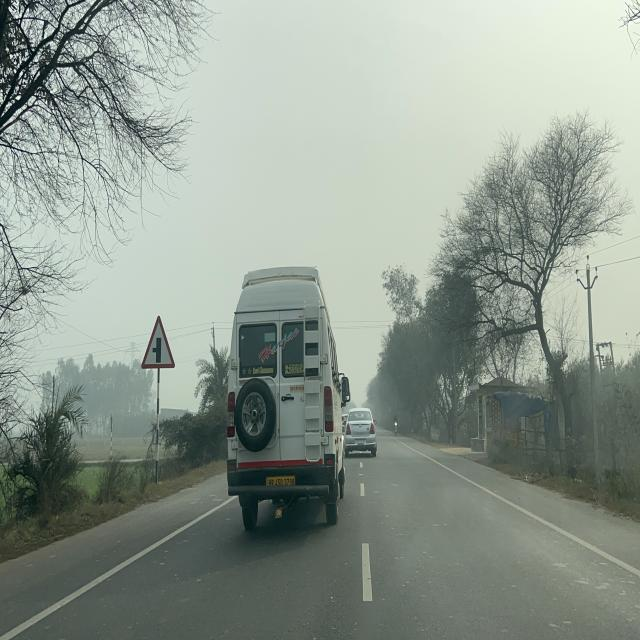SIDE_ROAD_LEFT: (140, 314, 175, 369)
